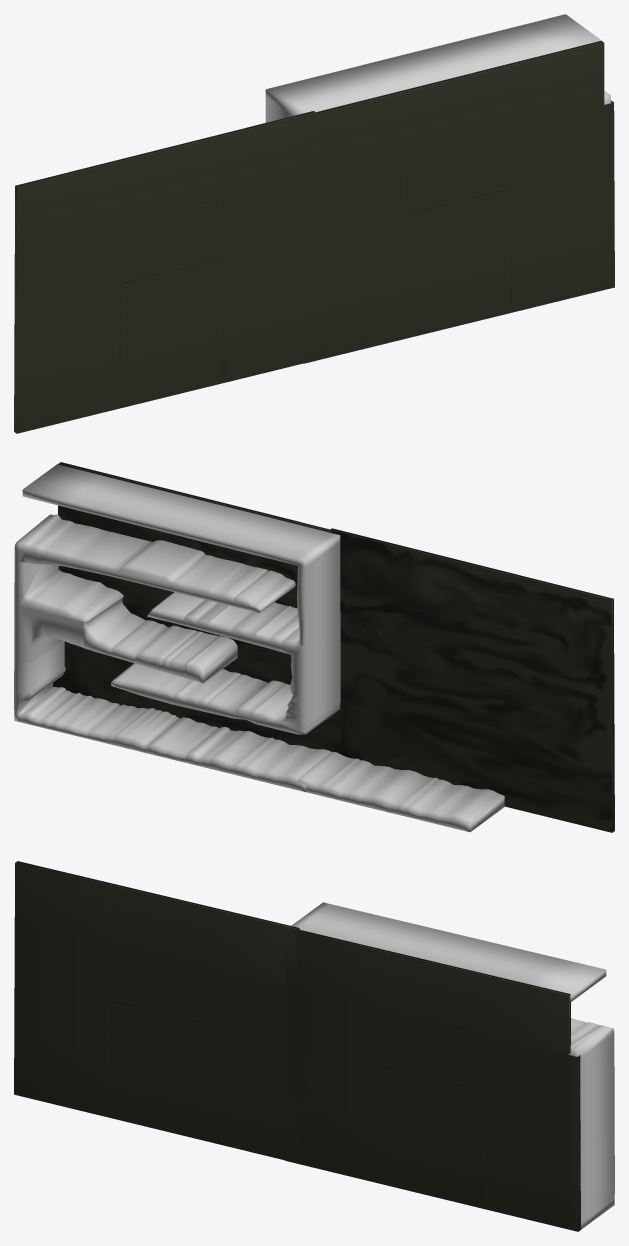
Rendered from cave level map 2.fbx.
The picture shows the model from 3 angles, top to bottom: view 1: azimuth 30°, elevation 25°; view 2: azimuth 150°, elevation 25°; view 3: azimuth 330°, elevation 25°; orthographic projection. The views are drawn at different scales.
Visible parts, largest first — view 1: S1P10.001, S1P10, part4.007, part4.008, part4.005; view 2: S1P10.001, S1P10, part4.011, part4.007, part4.015, part4.014, part4.002, part4.012, part4.004, part4.009, part4.018, part4.016 (+7 smaller); view 3: S1P10, S1P10.001, part4.011, part4.005, part4.007, part4.008, part4.015, part4.004.
Part boxes in pixels (x1=…): S1P10.001: x1=14, y1=111, x2=327, y2=433; S1P10: x1=304, y1=41, x2=614, y2=363; part4.007: x1=265, y1=63, x2=404, y2=122; part4.008: x1=369, y1=38, x2=506, y2=89; part4.005: x1=471, y1=14, x2=602, y2=64; S1P10.001: x1=324, y1=528, x2=614, y2=832; S1P10: x1=53, y1=462, x2=340, y2=754; part4.011: x1=14, y1=561, x2=145, y2=663; part4.007: x1=208, y1=511, x2=340, y2=616; part4.015: x1=14, y1=640, x2=147, y2=744; part4.014: x1=208, y1=649, x2=340, y2=734; part4.002: x1=208, y1=592, x2=340, y2=674; part4.012: x1=111, y1=620, x2=237, y2=682; part4.004: x1=14, y1=514, x2=145, y2=576; part4.009: x1=111, y1=540, x2=242, y2=600; part4.018: x1=373, y1=771, x2=504, y2=832; part4.016: x1=113, y1=708, x2=243, y2=768; S1P10: x1=285, y1=929, x2=580, y2=1231; S1P10.001: x1=14, y1=861, x2=306, y2=1164; part4.011: x1=580, y1=1045, x2=614, y2=1168; part4.005: x1=483, y1=948, x2=606, y2=1001; part4.007: x1=291, y1=902, x2=419, y2=950; part4.008: x1=387, y1=925, x2=516, y2=973; part4.015: x1=580, y1=1144, x2=614, y2=1229; part4.004: x1=568, y1=1018, x2=614, y2=1068.
Size of the model in its own units: 2539 by 1006 by 291.
